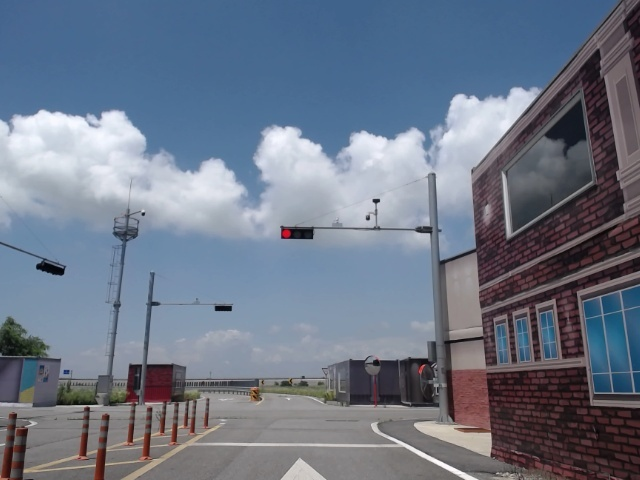red_3: (279, 227, 315, 241)
